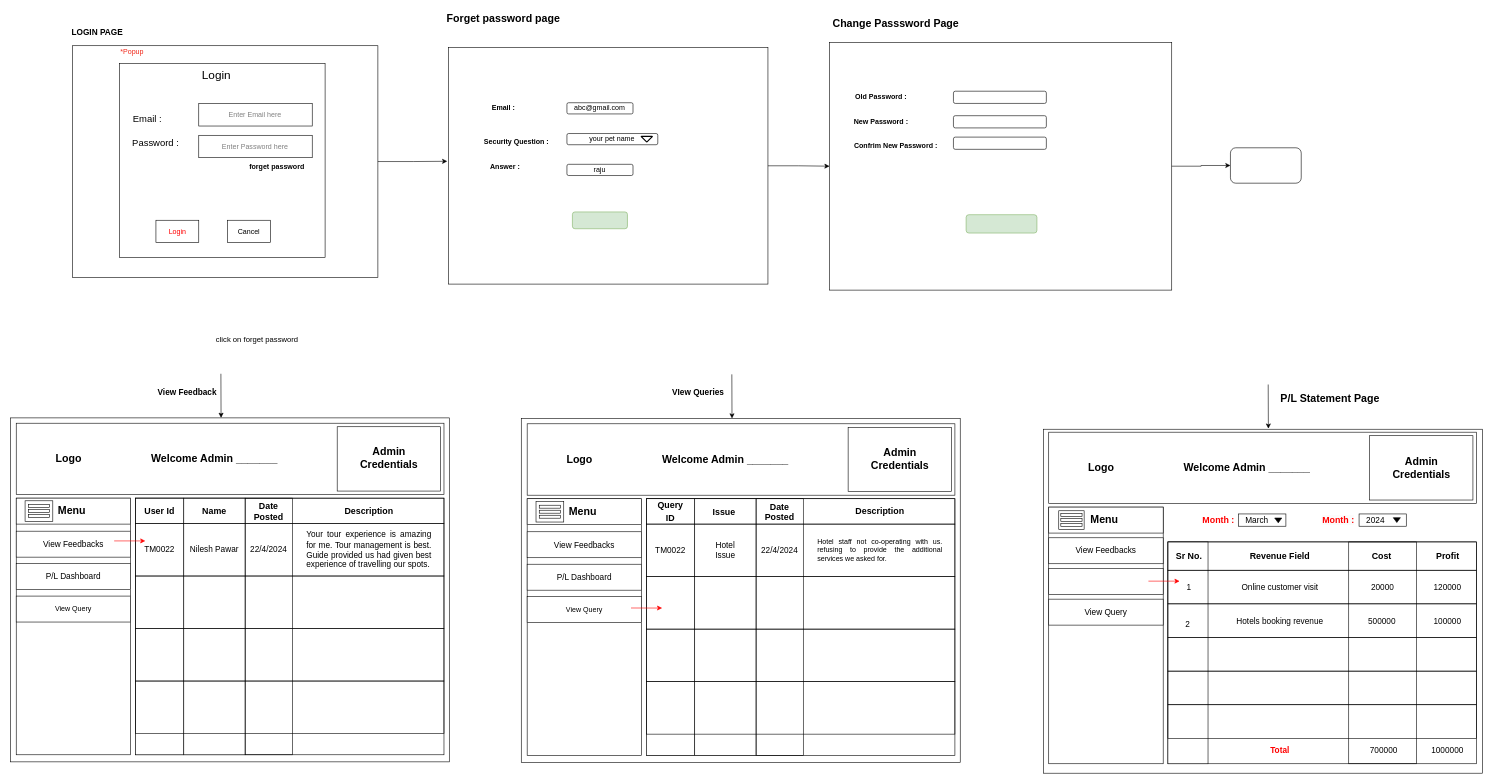
This 1493x784 diagram has some shape labels left out. Each missing label, with the centre of its shape:
Change Password: the point at 1001,223
Dashboard: the point at 1265,165
P/L Statement: the point at 1105,581
Submit: the point at 599,220
